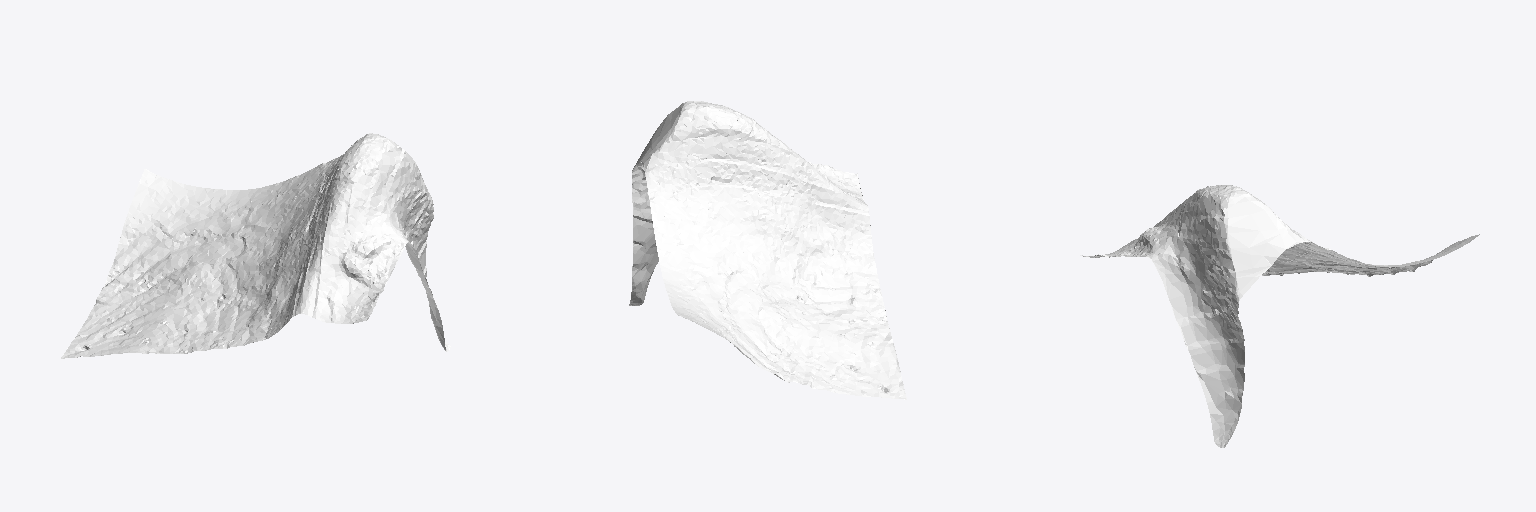
The model's file is tile_3_4.obj.
3 views of the same model, side by side, from view 1: azimuth 30°, elevation 25°; view 2: azimuth 150°, elevation 25°; view 3: azimuth 270°, elevation 25° (orthographic).
Visible parts, largest first — view 1: texture_0; view 2: texture_0; view 3: texture_0.
Boxes of the visible parts, x1=… form: texture_0: x1=61, y1=133, x2=450, y2=358; texture_0: x1=629, y1=101, x2=906, y2=399; texture_0: x1=1080, y1=185, x2=1479, y2=447.
Bounding box in the file's own units: 0.4195 × 0.2684 × 0.436.